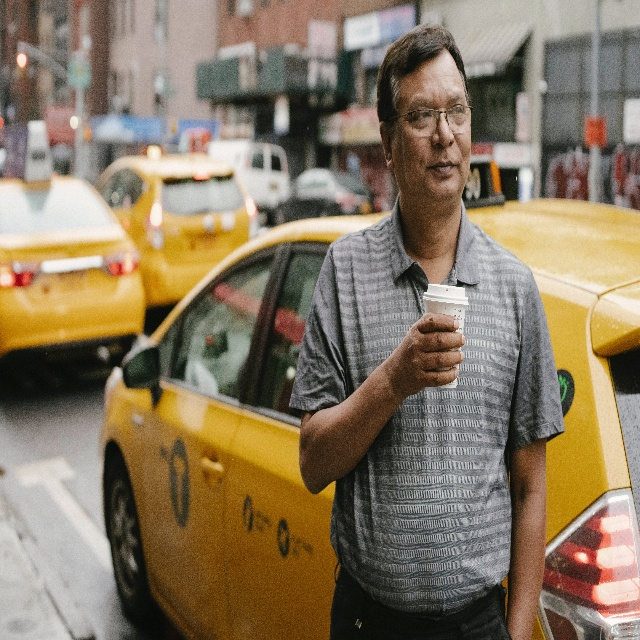Gafas: (384, 105, 473, 138)
Sin_guantes: (391, 311, 466, 399)
